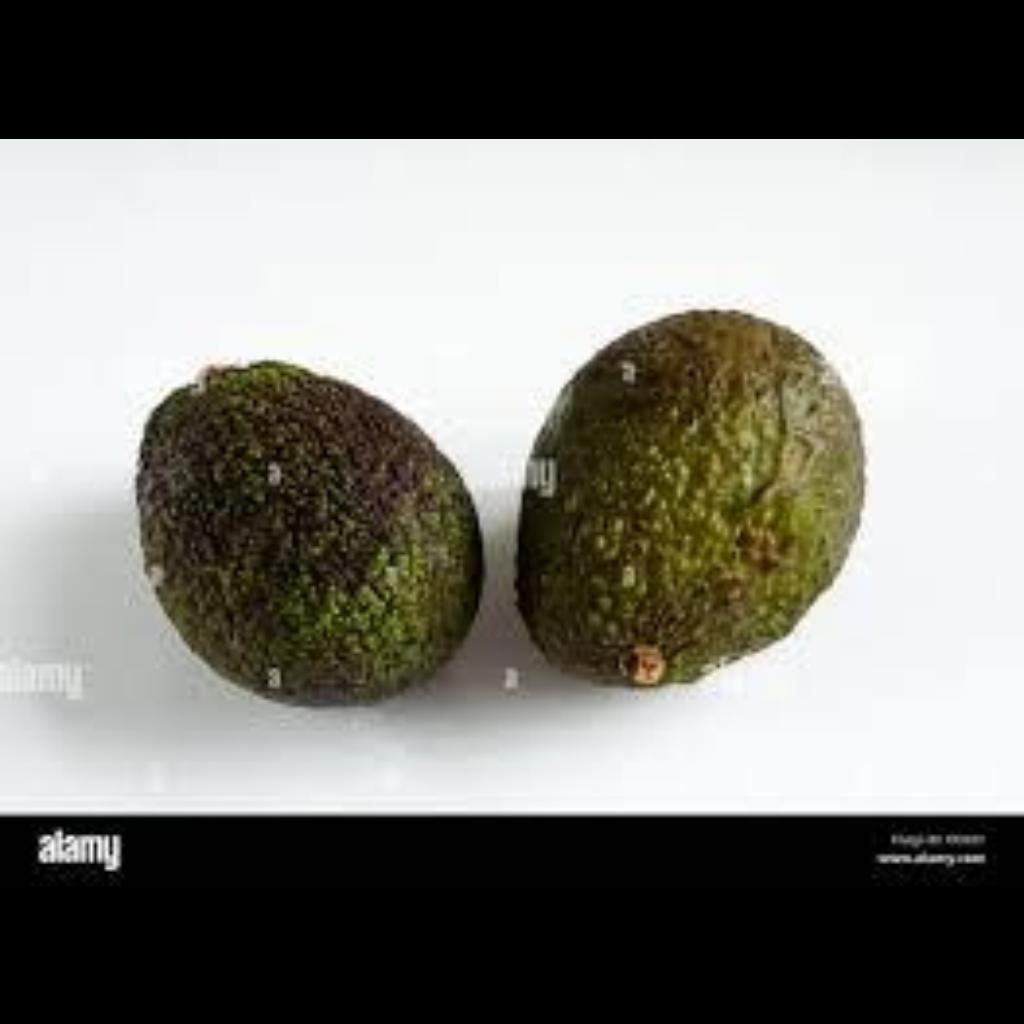Anthracnose: (107, 360, 485, 710), (518, 307, 864, 681)
